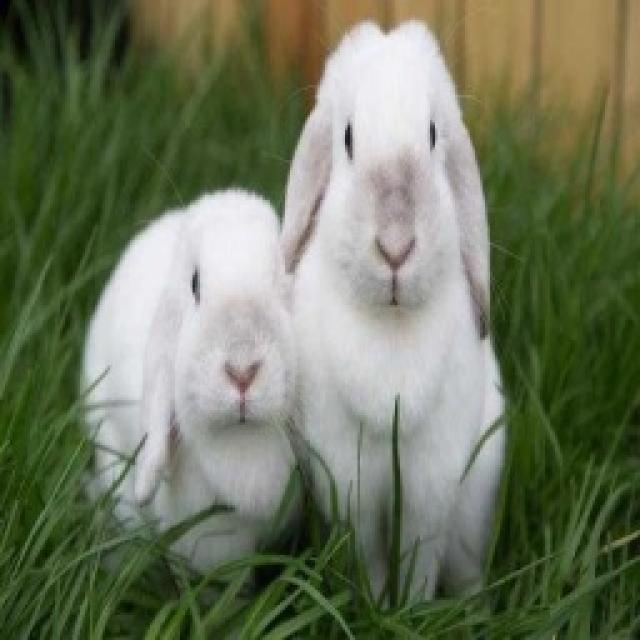not_pig: (278, 15, 508, 615), (78, 182, 302, 590)
